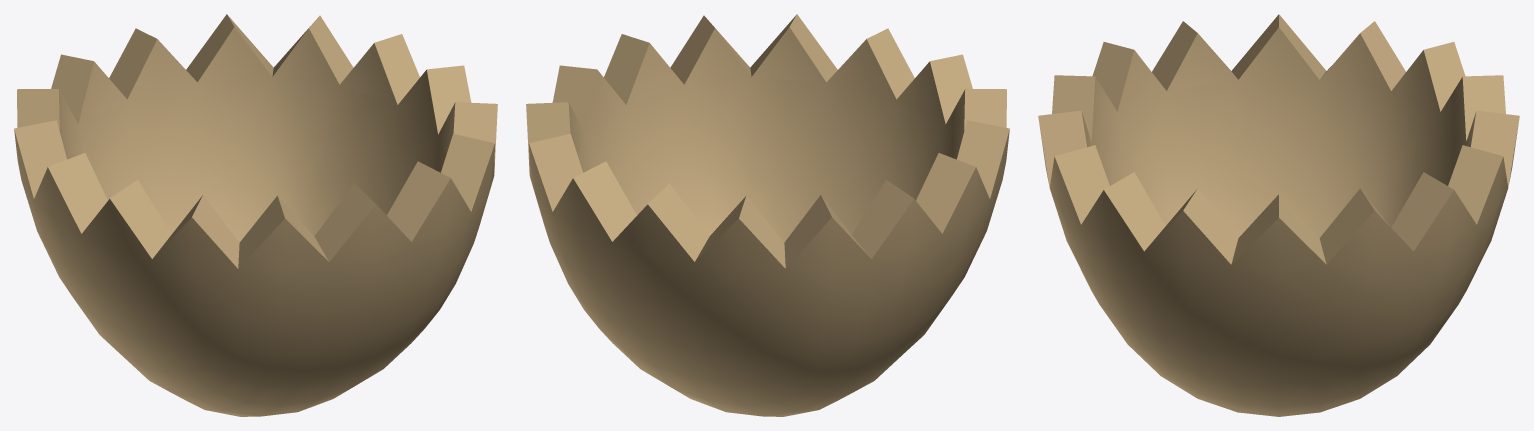
The model's file is shellfbx.fbx.
3 renders of one model, left to right at view 1: azimuth 30°, elevation 25°; view 2: azimuth 150°, elevation 25°; view 3: azimuth 270°, elevation 25°, orthographic.
Visible parts, largest first — view 1: Shell; view 2: Shell; view 3: Shell.
Part boxes in pixels (<box>): Shell: <box>14,14,497,416</box>; Shell: <box>526,14,1009,416</box>; Shell: <box>1038,14,1519,416</box>.
Bounding box in the file's own units: 66.81 × 44.81 × 66.81.
